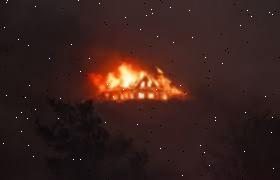fire: (87, 56, 190, 124)
